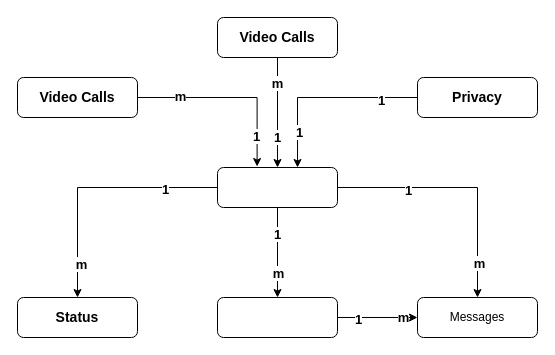
Image size: 555x355. Some labels were removed from this diagram. Here are the shapes that lost their labels. From the top down, the centre of each, then its label:
[277,187]: Users
[277,317]: Chats
